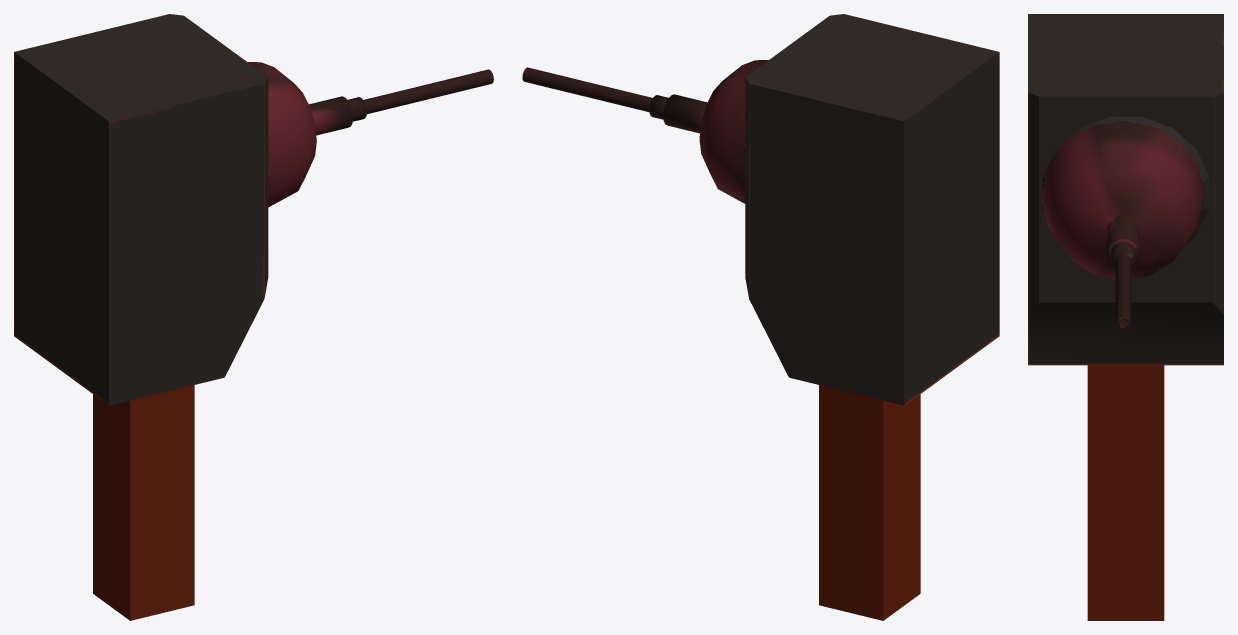
3 views of the same model, side by side, from view 1: azimuth 30°, elevation 25°; view 2: azimuth 150°, elevation 25°; view 3: azimuth 270°, elevation 25° (orthographic). The views are drawn at different scales.
Visible parts, largest first — view 1: MG, Cube.013; view 2: MG, Cube.013; view 3: MG, Cube.013.
Part boxes in pixels (bbox=[...]): MG: bbox=[14, 14, 268, 620]; Cube.013: bbox=[247, 62, 493, 207]; MG: bbox=[744, 14, 999, 620]; Cube.013: bbox=[522, 60, 768, 203]; MG: bbox=[1028, 14, 1223, 620]; Cube.013: bbox=[1041, 120, 1204, 331].
Bounding box in the file's own units: 2.47 × 2.93 × 0.9479.
Materials: 1 (1 with a texture image).
